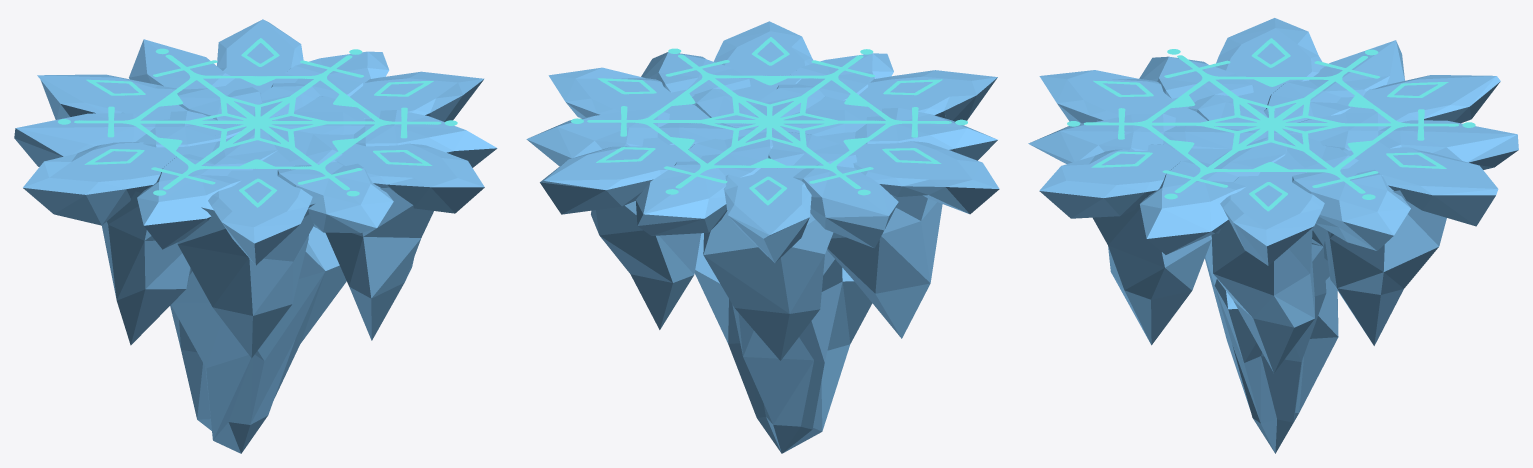
File: connect_new.fbx
The picture shows the model from 3 angles, left to right: view 1: azimuth 30°, elevation 25°; view 2: azimuth 150°, elevation 25°; view 3: azimuth 270°, elevation 25°; orthographic projection. The views are drawn at different scales.
Parts seen in each view (by area): view 1: connect, connect_ice; view 2: connect, connect_ice; view 3: connect, connect_ice.
Part boxes in pixels (x1,y1,x2,y2): connect: (14,19,497,453); connect_ice: (58,38,457,207); connect: (526,21,999,453); connect_ice: (571,37,967,205); connect: (1028,18,1518,453); connect_ice: (1067,38,1475,211).
Bounding box in the file's own units: 231 × 159 × 210.
Materials: 2 (2 with a texture image).
